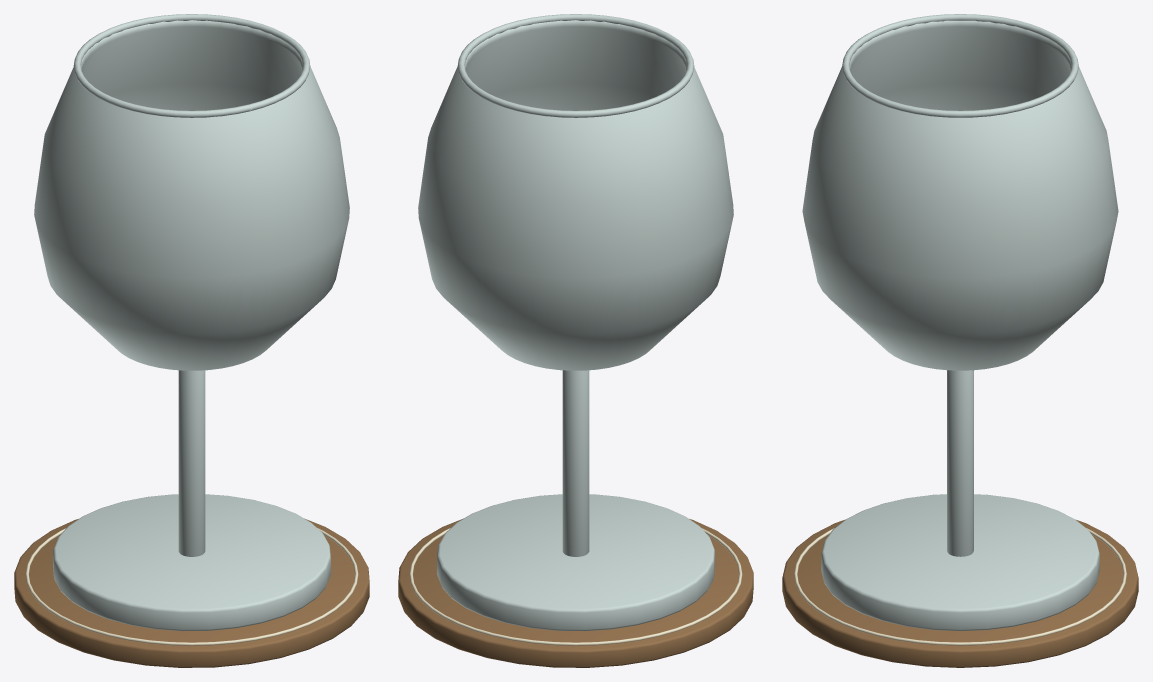
The model's file is drink-redwine.glb.
3 renders of one model, left to right at view 1: azimuth 30°, elevation 25°; view 2: azimuth 150°, elevation 25°; view 3: azimuth 270°, elevation 25°, orthographic.
Parts seen in each view (by area): view 1: drink-redwine; view 2: drink-redwine; view 3: drink-redwine.
Boxes of the visible parts, x1,y1,x2,y2 form: drink-redwine: (14, 14, 369, 667); drink-redwine: (398, 14, 753, 667); drink-redwine: (782, 14, 1138, 667).
Size of the model in its own units: 0.32 by 0.5261 by 0.32.
